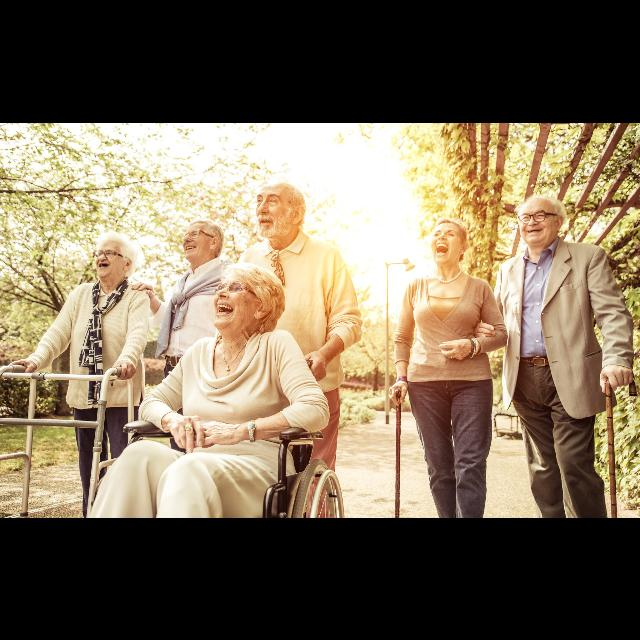head: (213, 264, 281, 334), (256, 182, 308, 240), (516, 195, 566, 245), (95, 234, 135, 278), (431, 219, 469, 265), (182, 220, 224, 260)
